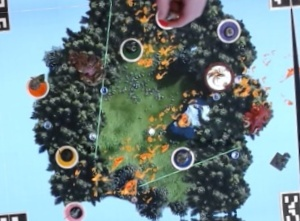blue: (169, 144, 200, 172)
green: (116, 35, 145, 65)
orange: (24, 73, 51, 99)
pink: (62, 197, 90, 221)
red: (153, 5, 180, 32)
violet: (215, 15, 243, 45)
yellow: (53, 140, 82, 170)
